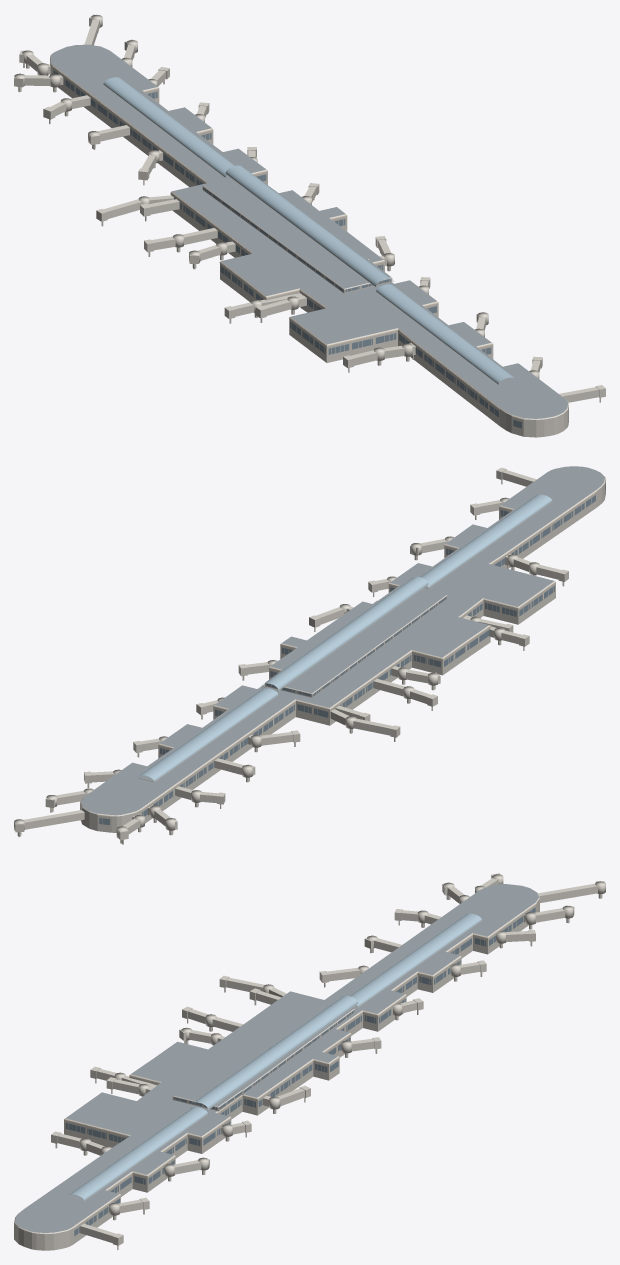
The model's file is chi-ohare-terminal-1-concourse-c.detail.glb.
3 views of the same model, one above another, from view 1: azimuth 30°, elevation 25°; view 2: azimuth 150°, elevation 25°; view 3: azimuth 330°, elevation 25° (orthographic). The views are drawn at different scales.
Parts seen in each view (by area): view 1: O'Hare Terminal 1 Concourse C; view 2: O'Hare Terminal 1 Concourse C; view 3: O'Hare Terminal 1 Concourse C.
Part boxes in pixels (x1,y1,x2,y2): O'Hare Terminal 1 Concourse C: (14,14,605,437); O'Hare Terminal 1 Concourse C: (14,466,605,844); O'Hare Terminal 1 Concourse C: (14,873,605,1250).
Size of the model in its own units: 117 by 15.6 by 518.
